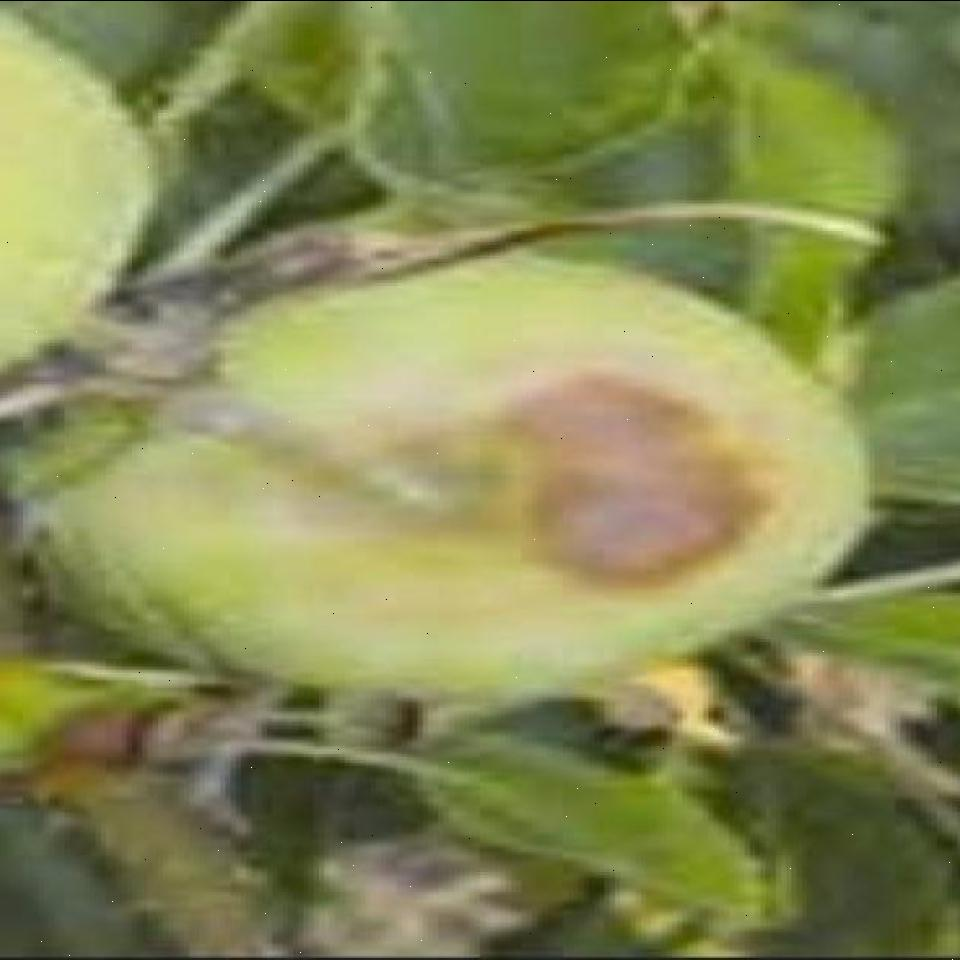Sunscald: (420, 347, 784, 608)
